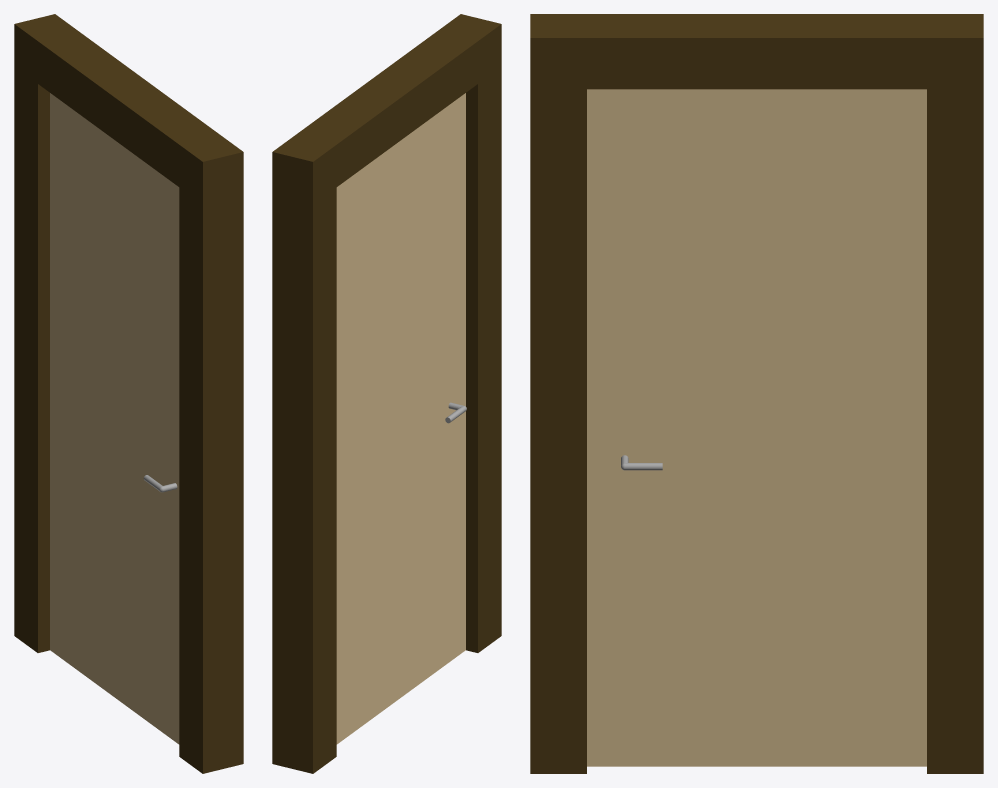
File: door.glb
3 renders of one model, left to right at view 1: azimuth 30°, elevation 25°; view 2: azimuth 150°, elevation 25°; view 3: azimuth 270°, elevation 25°, orthographic. The views are drawn at different scales.
Parts seen in each view (by area): view 1: DoorFrame, DoorBase; view 2: DoorFrame, DoorBase; view 3: DoorBase, DoorFrame.
Boxes of the visible parts, <box> form: DoorFrame: <box>14,14,243,773</box>; DoorBase: <box>50,93,179,744</box>; DoorFrame: <box>272,14,501,773</box>; DoorBase: <box>336,93,465,744</box>; DoorBase: <box>587,89,926,766</box>; DoorFrame: <box>530,14,983,773</box>.
Bounding box in the file's own units: 0.18 × 2.15 × 1.2.
